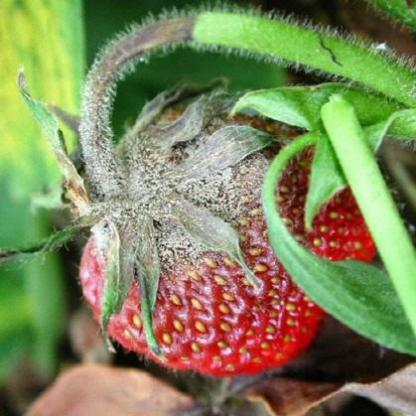Strawberry_Gray_Mold: (48, 11, 315, 362)
